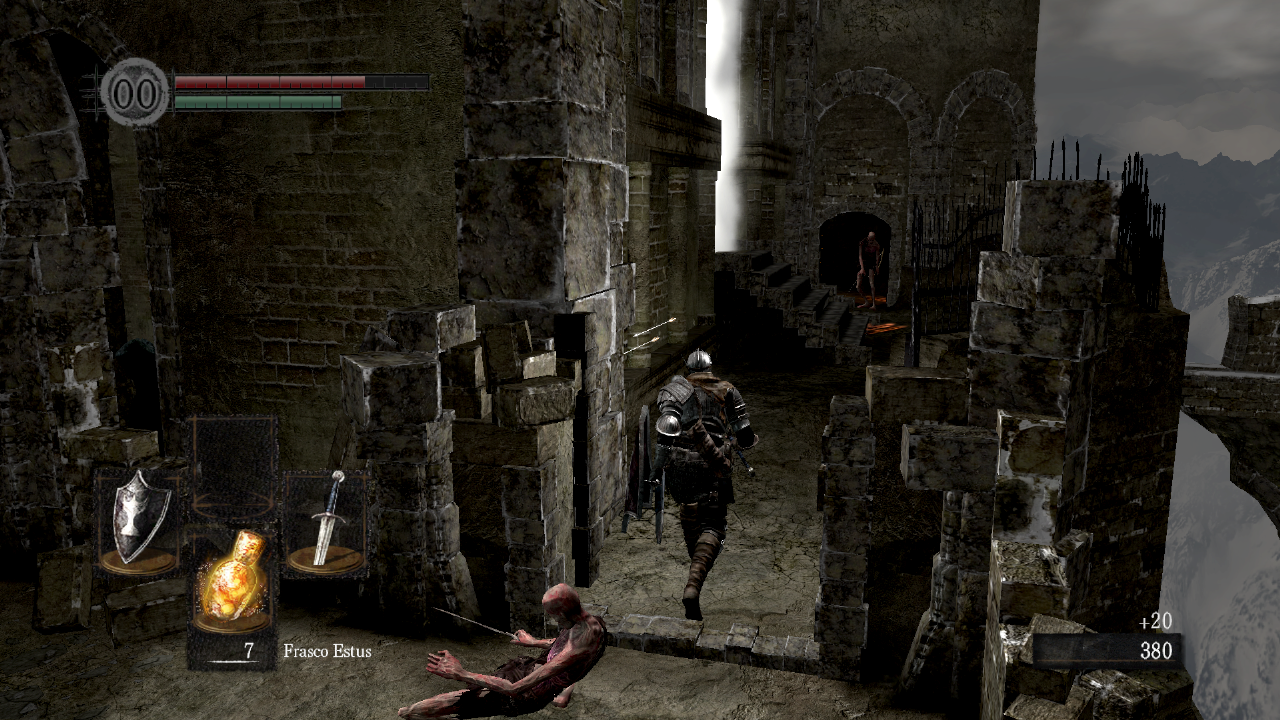hollow: (847, 231, 884, 310)
player: (621, 347, 759, 621)
